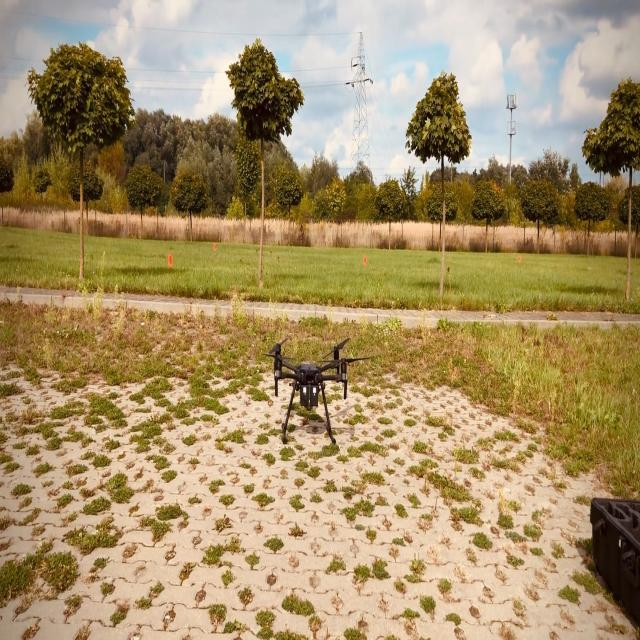drone: (265, 335, 372, 445)
